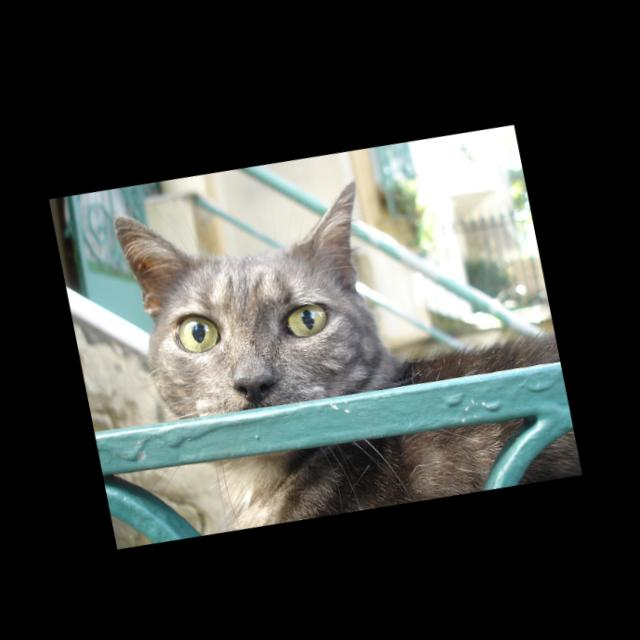animals: (117, 164, 396, 422)
